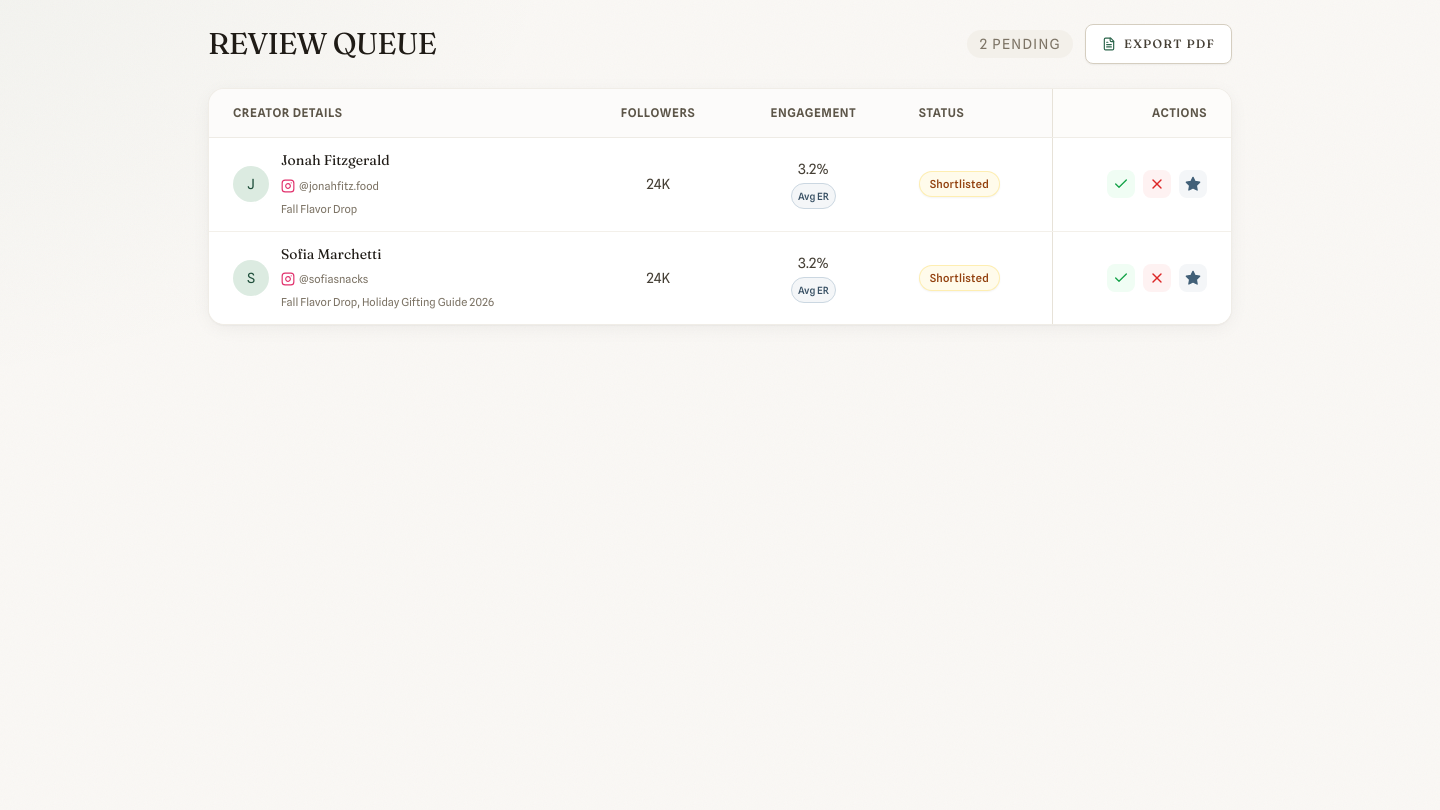
Test: ReviewQueue › reports a failed send, keeps the edited draft and refreshes the creators
Step 1. Click the button titled "Approve & Send Outreach" in the row of "jonahfitz.food" → x=1121, y=184, box [1107,170,1135,198]
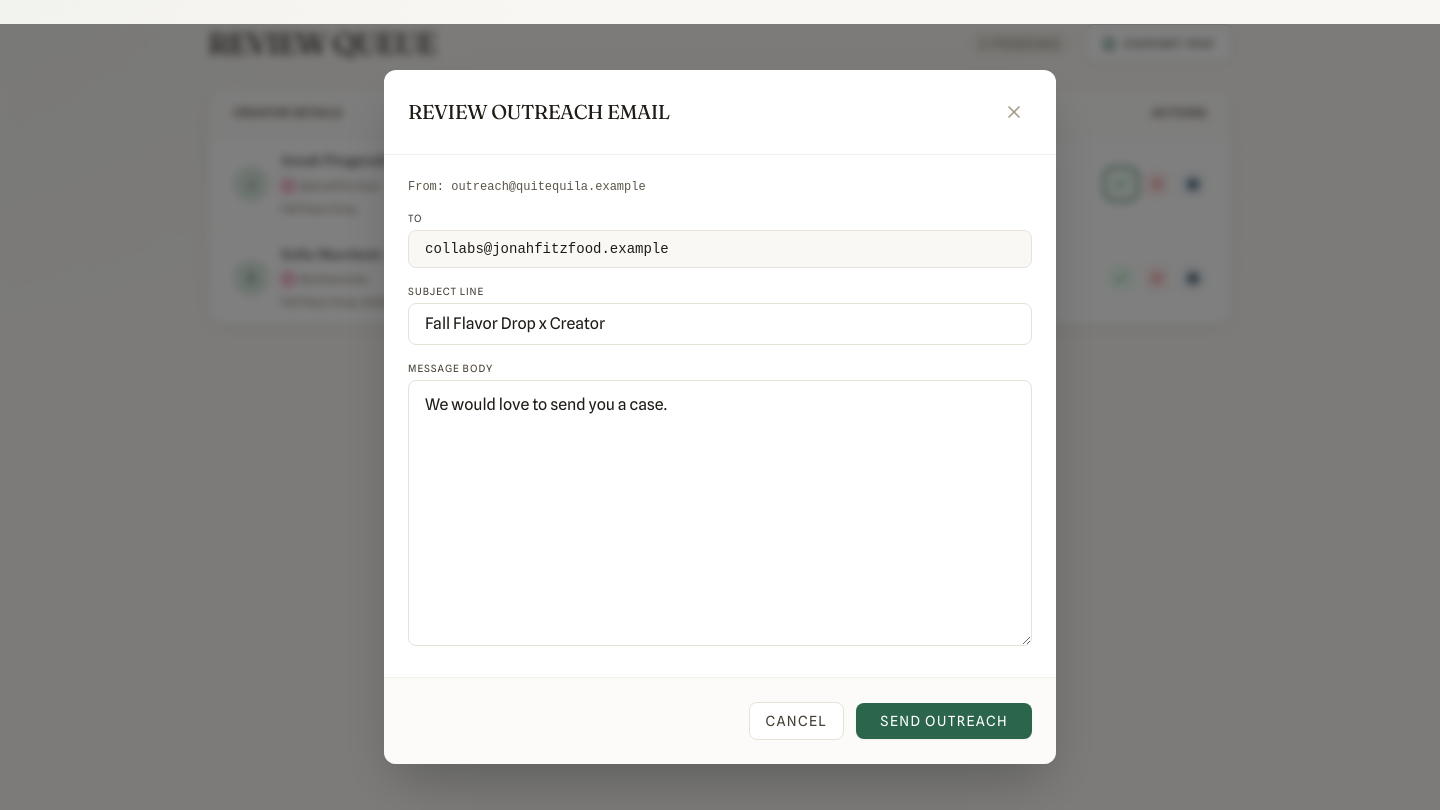
Now the text "From: outreach@quitequila.example" is shown, box [408,180,646,194]
Step 2. Replace the text in the field labelled "Subject Line" with "My own subject" → x=720, y=324, box [408,303,1032,345]
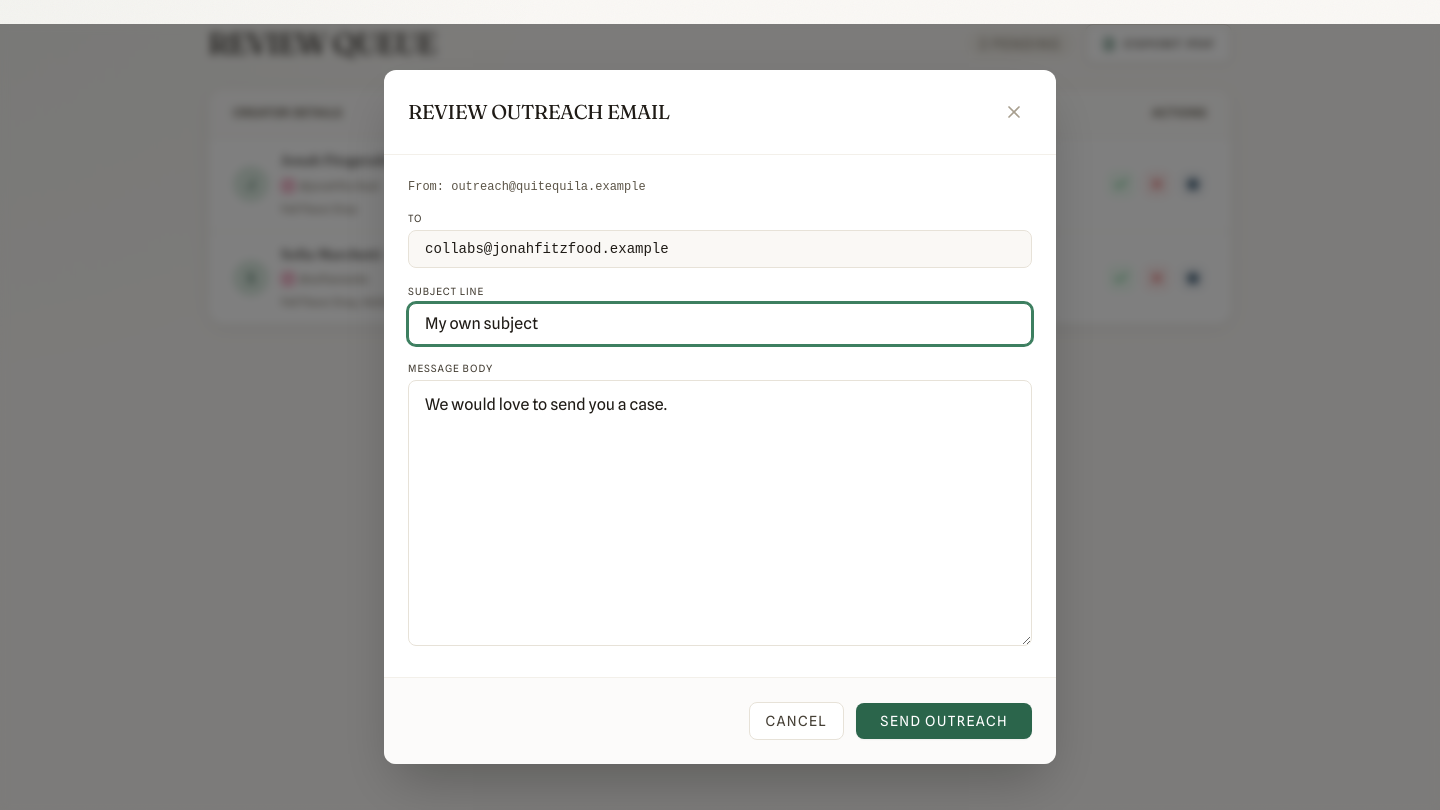
Step 3. Click the button "Send Outreach" → x=944, y=721, box [856,703,1032,739]
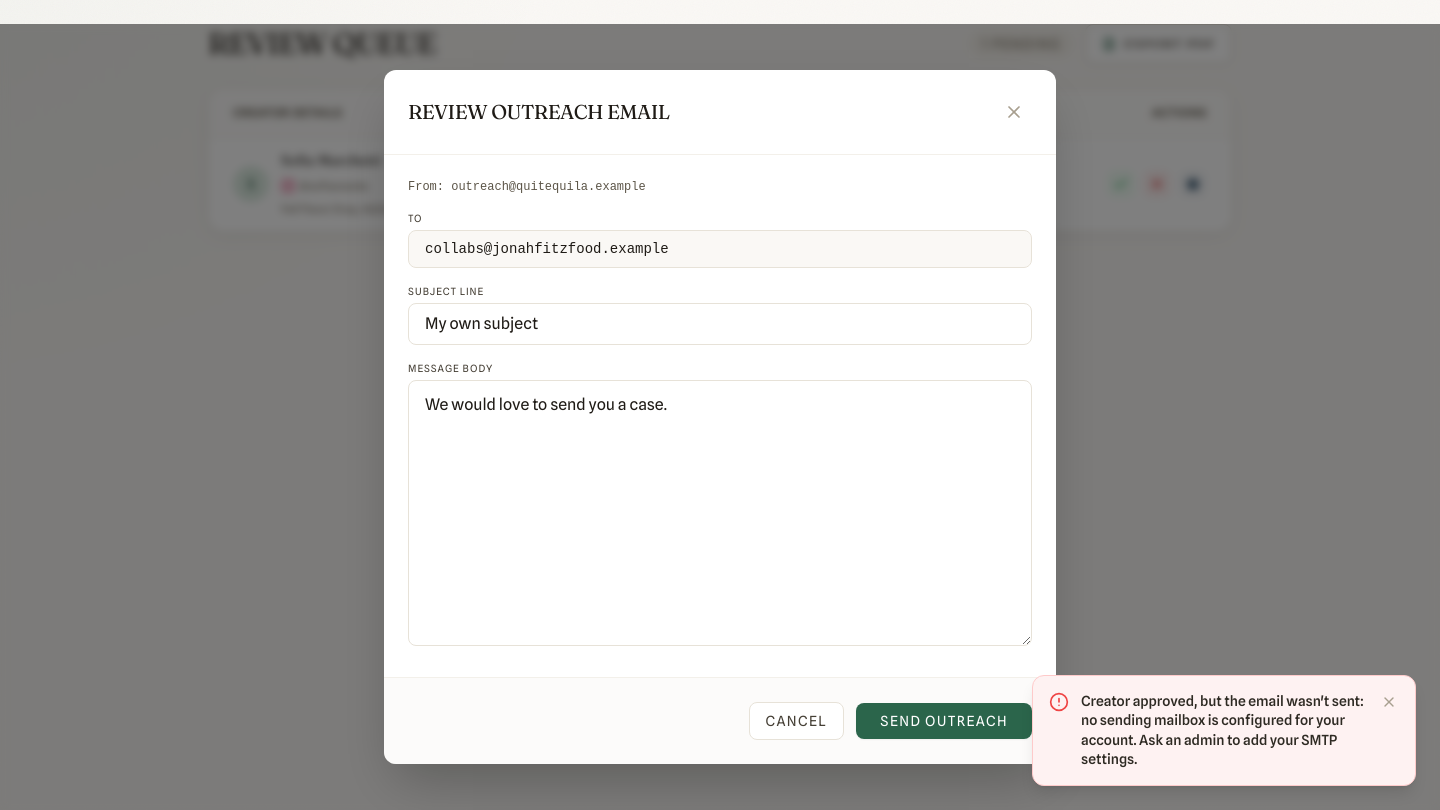
Expected: the link "Jonah Fitzgerald" is not shown
Now the button "Send Outreach" is enabled, box [856,703,1032,739]
Now the text "Creator approved, but the email wasn't sent: no sending mailbox is configured for your account. Ask an admin to add your" is shown, box [1081,693,1364,767]
